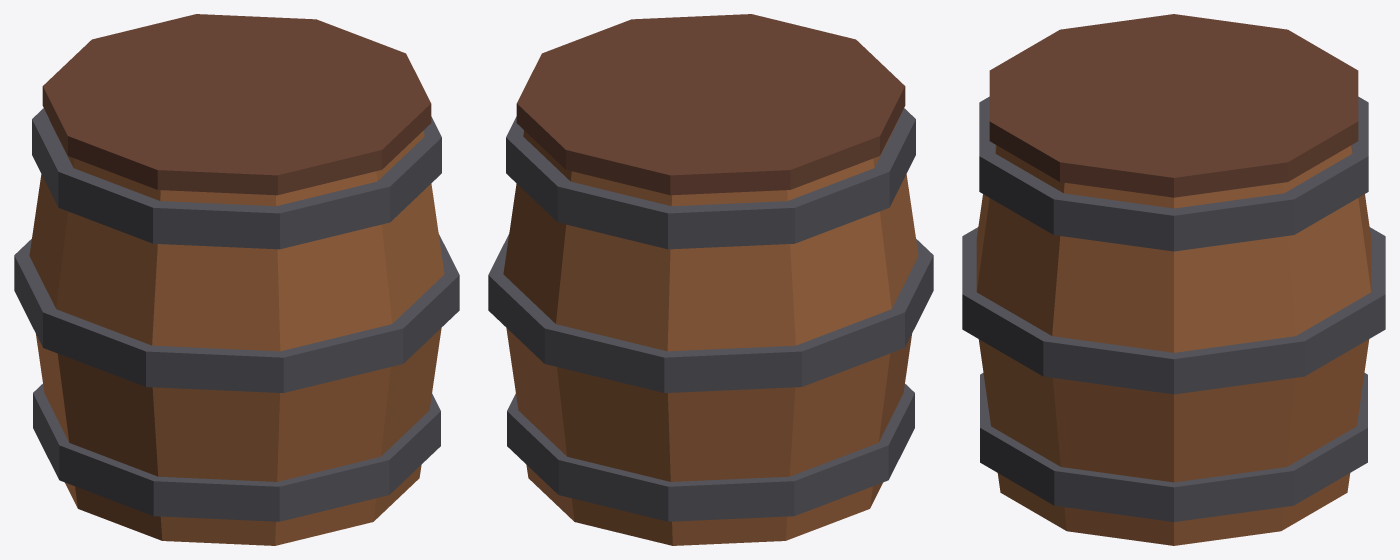
File: Barrel_Water.fbx
3 renders of one model, left to right at view 1: azimuth 30°, elevation 25°; view 2: azimuth 150°, elevation 25°; view 3: azimuth 270°, elevation 25°, orthographic.
Visible parts, largest first — view 1: Barrel_Water; view 2: Barrel_Water; view 3: Barrel_Water.
Boxes of the visible parts, x1,y1,x2,y2 form: Barrel_Water: (14, 14, 459, 545); Barrel_Water: (488, 14, 933, 545); Barrel_Water: (962, 14, 1385, 545).
Bounding box in the file's own units: 0.9818 × 0.9081 × 0.9337.
